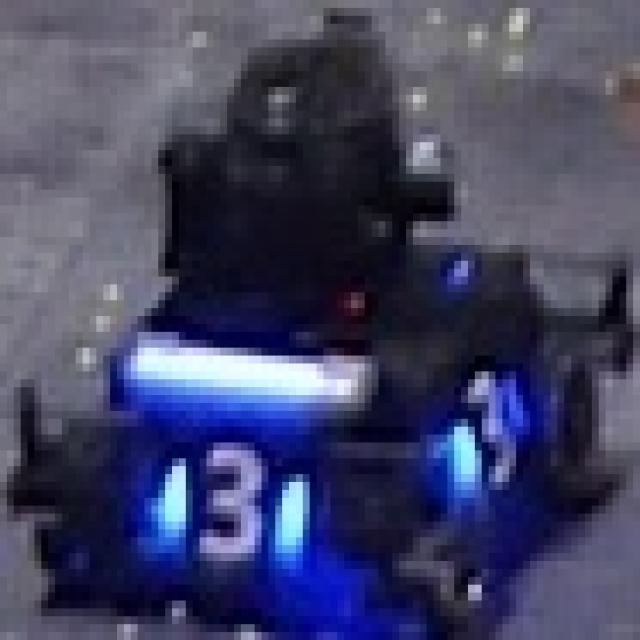B3: (130, 418, 316, 592), (413, 352, 544, 502)
